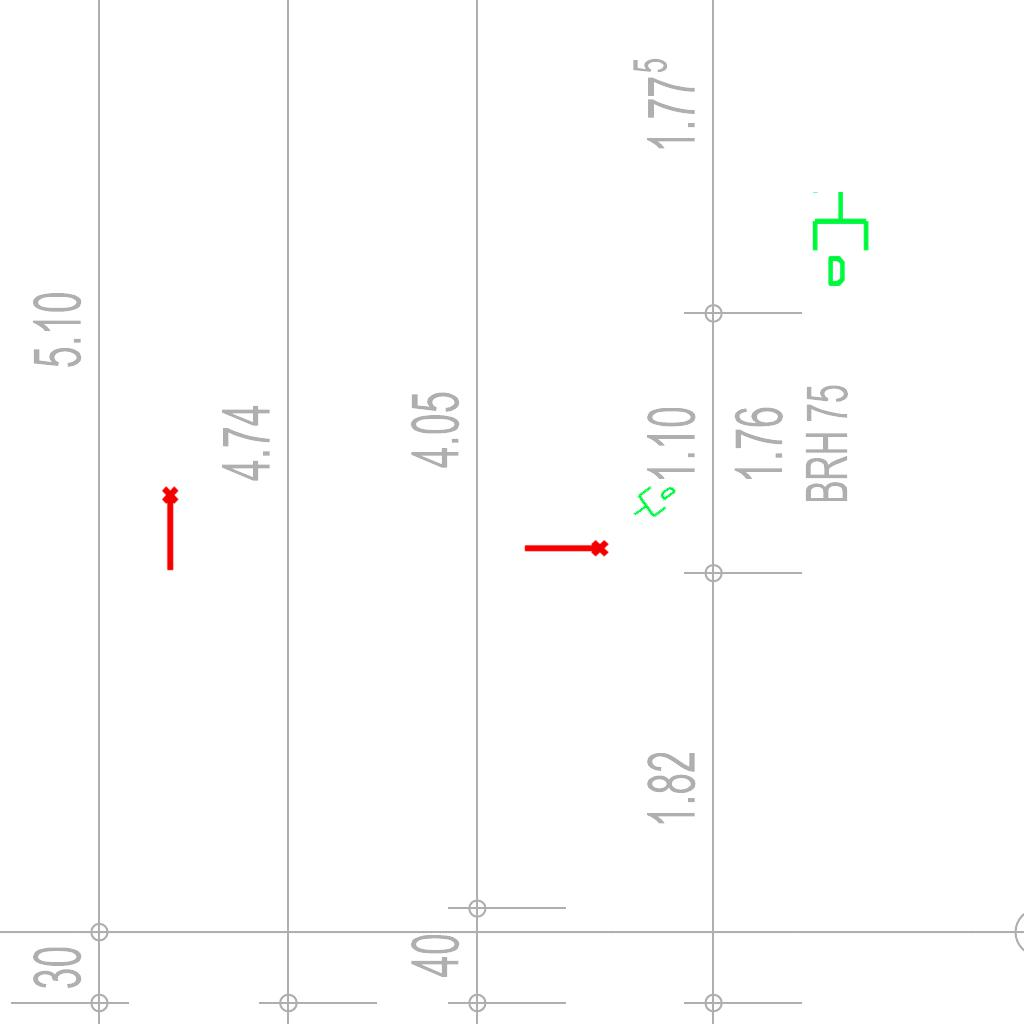ASR_Ansaugoeffnung: (522, 538, 610, 561), (160, 485, 183, 573)
Datenanschluss_einfach: (808, 189, 877, 289), (622, 471, 684, 529)
